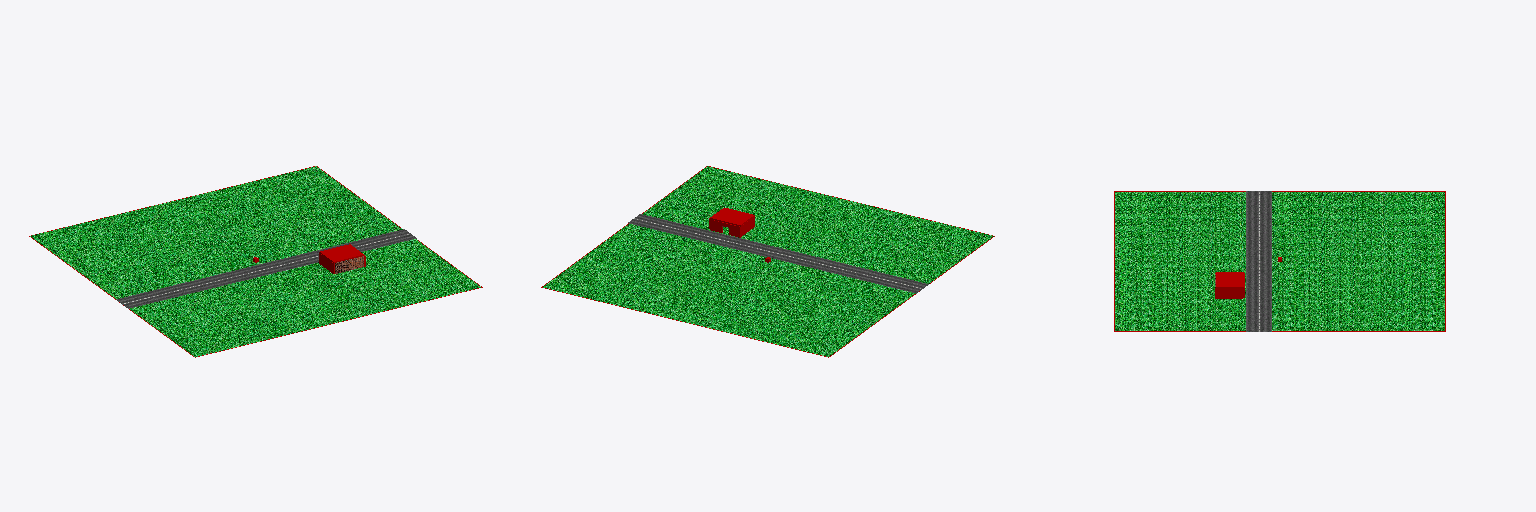
3 views of the same model, side by side, from view 1: azimuth 30°, elevation 25°; view 2: azimuth 150°, elevation 25°; view 3: azimuth 270°, elevation 25° (orthographic).
Bounding box in the file's own units: 366 × 15.63 × 365.
5 materials, 3 textured.